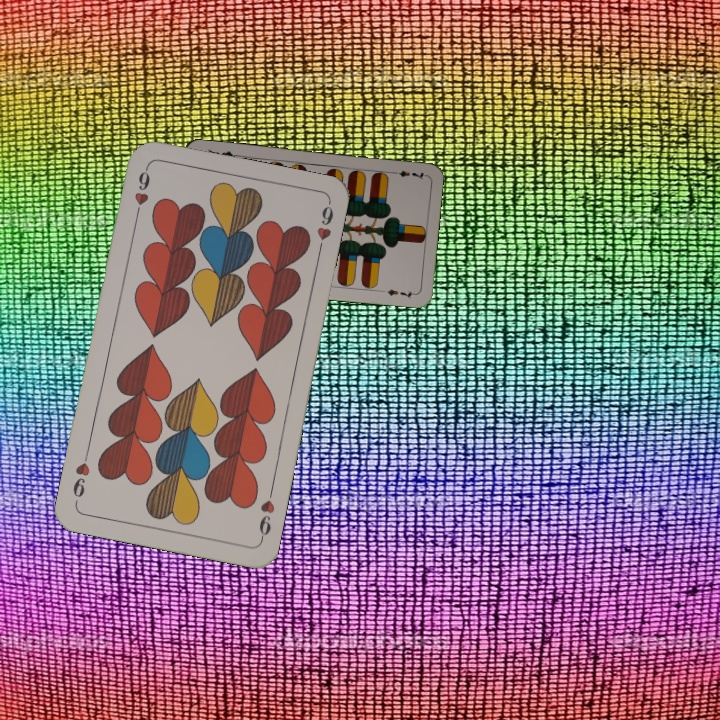E7: (387, 167, 427, 182)
H9: (255, 485, 278, 543), (130, 164, 153, 222)
